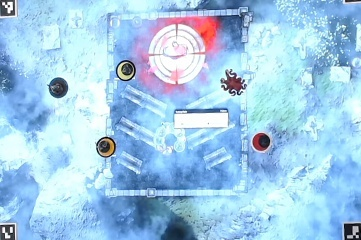brown_turquoise: (47, 74, 70, 97)
giant_red_octopus: (219, 67, 249, 97)
lime_green_violet: (115, 61, 138, 84)
red: (250, 130, 273, 153)
yellow_night_blue: (94, 134, 117, 157)
